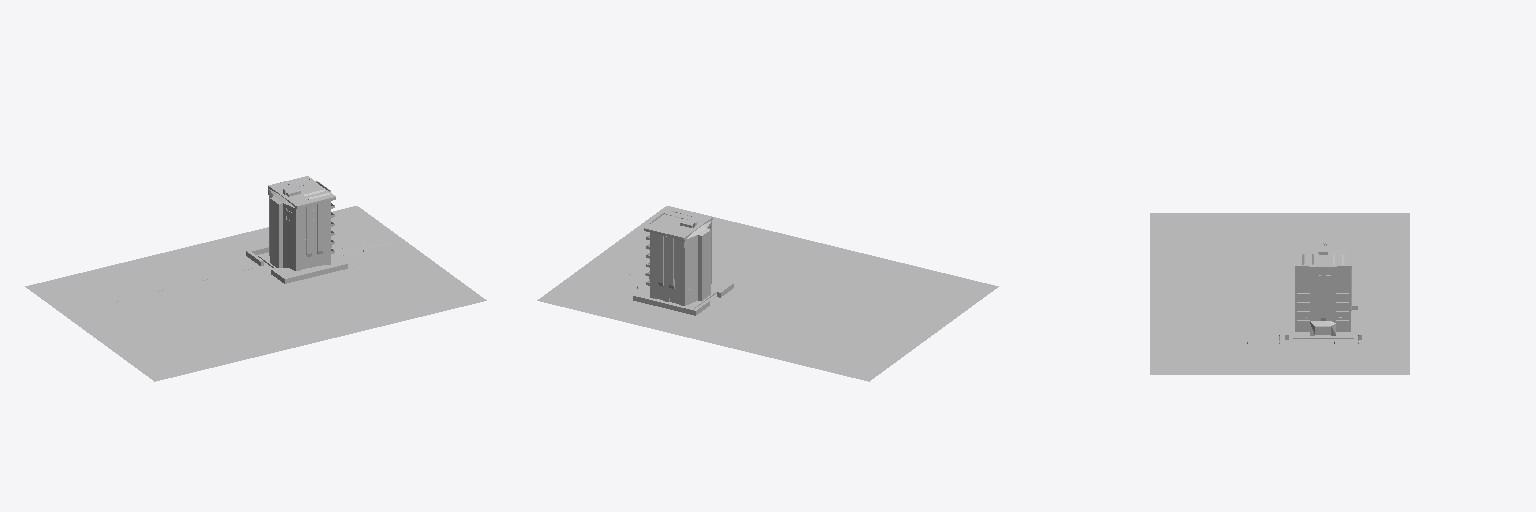
Rendered from EdificioNoTrees.obj.
3 views of the same model, side by side, from view 1: azimuth 30°, elevation 25°; view 2: azimuth 150°, elevation 25°; view 3: azimuth 270°, elevation 25° (orthographic).
Parts seen in each view (by area): view 1: Suelo_Plano, Edificio_Cube; view 2: Suelo_Plano, Edificio_Cube; view 3: Suelo_Plano, Edificio_Cube.
Part boxes in pixels (left/top/right/bottom): Suelo_Plano: left=25, top=206, right=486, bottom=381; Edificio_Cube: left=268, top=176, right=335, bottom=270; Suelo_Plano: left=537, top=206, right=998, bottom=381; Edificio_Cube: left=644, top=208, right=712, bottom=305; Suelo_Plano: left=1150, top=213, right=1409, bottom=374; Edificio_Cube: left=1295, top=243, right=1351, bottom=335.
Size of the model in its own units: 48.55 by 10.51 by 32.91.